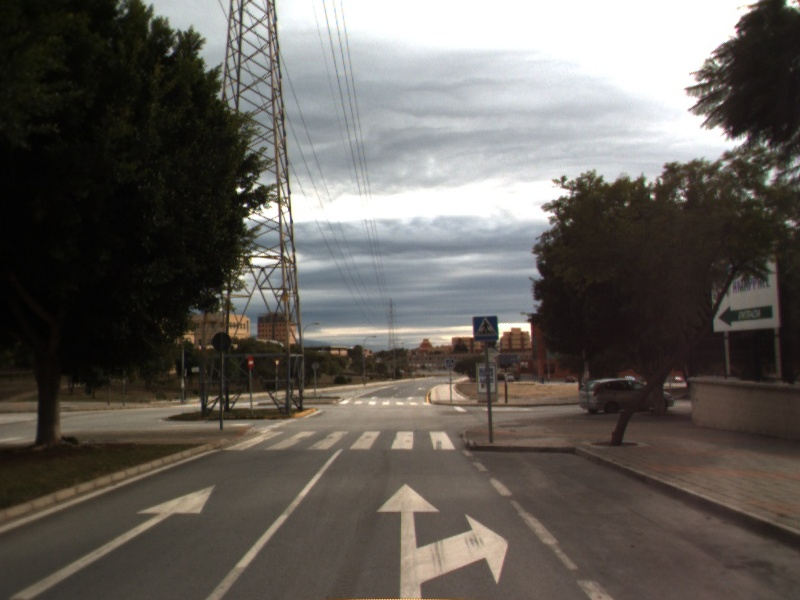STRAIGHT: (6, 482, 219, 600)
STRAIGHT_RIGHT: (374, 480, 511, 600)
